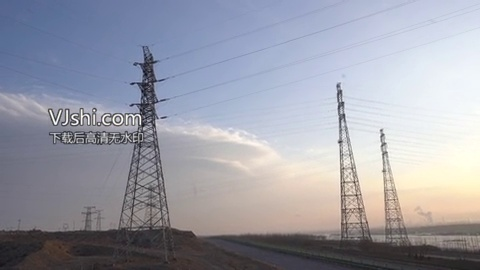tower_body: (112, 39, 183, 266), (332, 81, 376, 250), (374, 127, 417, 250)
tower_foot: (113, 206, 178, 264)
tower_head: (127, 44, 170, 82)
